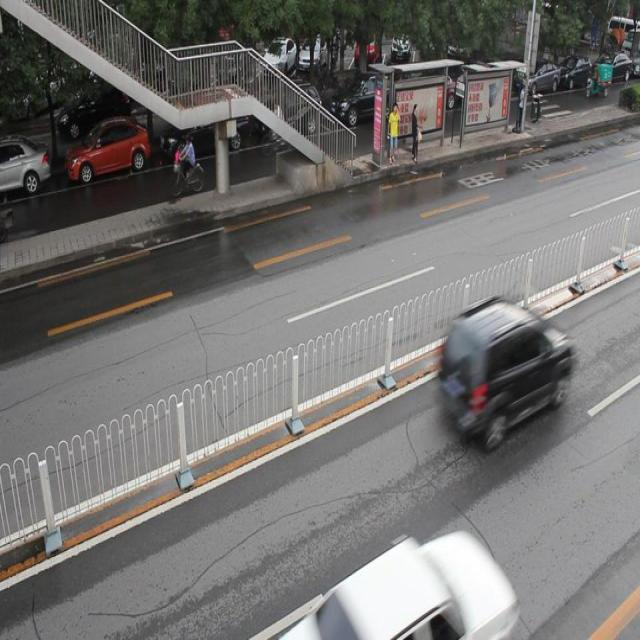car: (277, 526, 514, 640), (436, 292, 573, 452), (67, 115, 151, 179), (160, 104, 249, 162), (256, 84, 323, 141), (329, 76, 400, 126), (1, 132, 50, 193)
